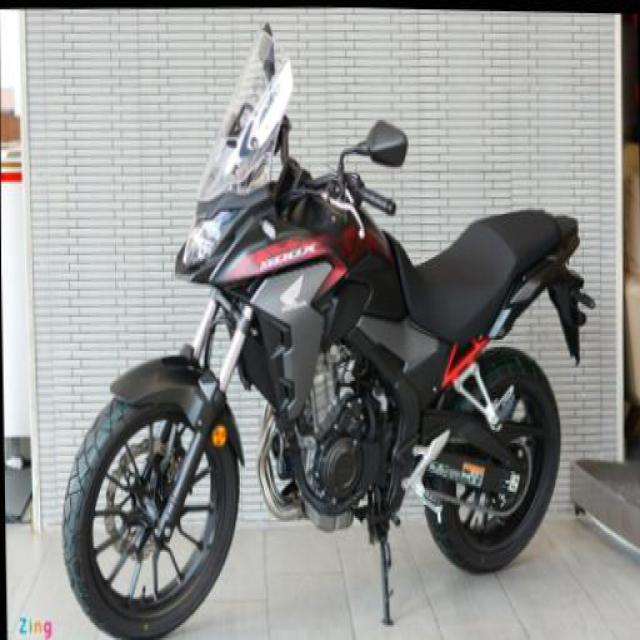CB500X: (48, 10, 592, 638)
